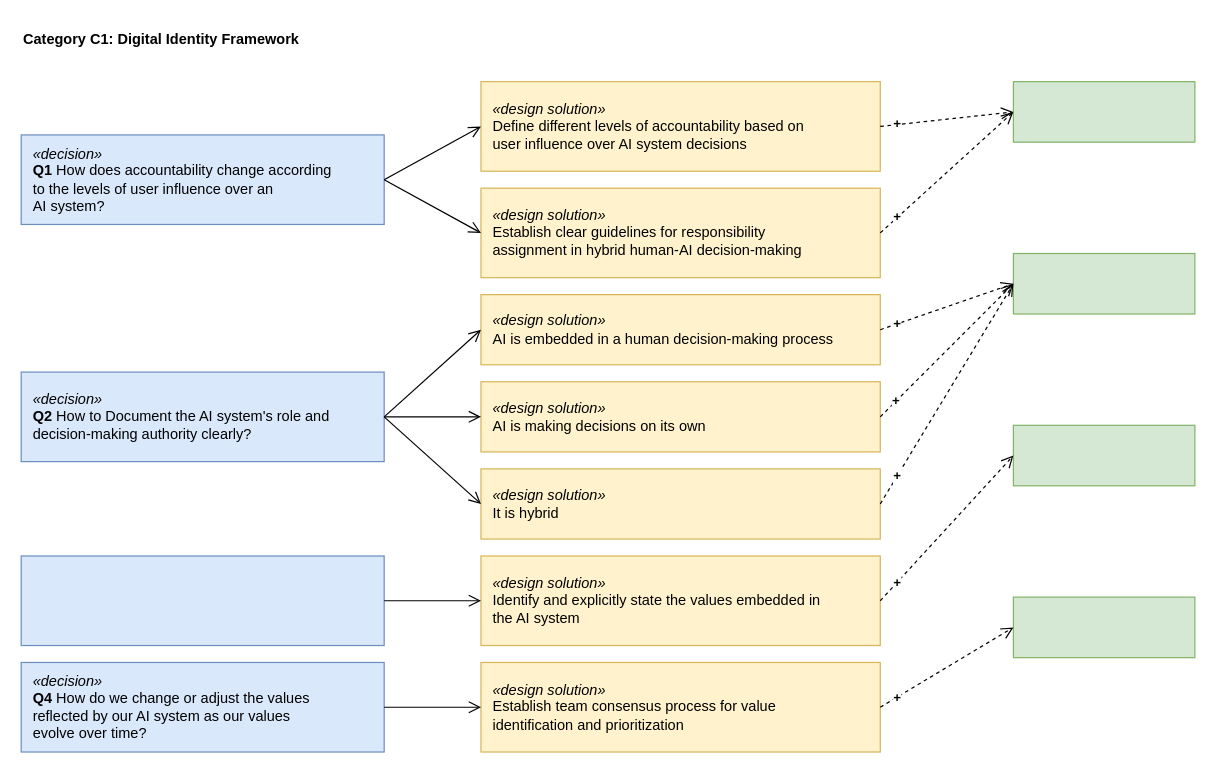
Image size: 1216x773. Some labels were removed from this diagram. Each missing label, with the box of its shape:
«decision» Q3 Which group's values are expressed by our AI system and why?: (20, 555, 384, 646)
«force» Accountability: (1012, 80, 1195, 142)
«force» Explainability: (1012, 424, 1195, 486)
«force» Transparency: (1012, 252, 1195, 314)
«force» Trust: (1012, 596, 1195, 658)
